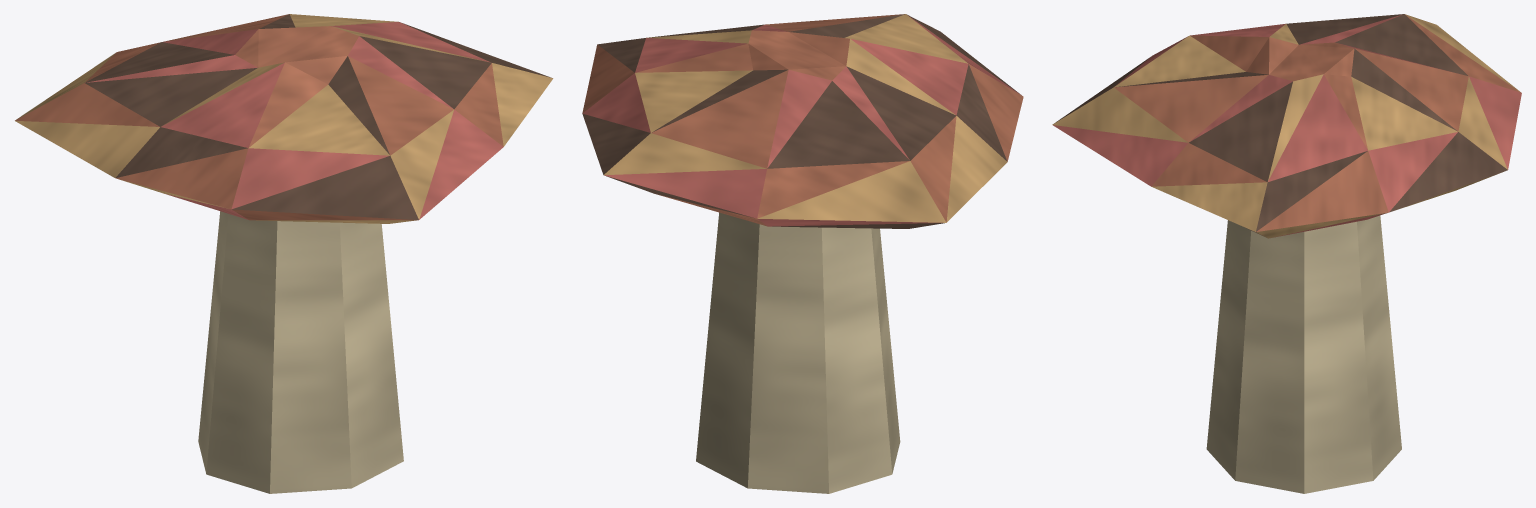
The model's file is mushroom_small_set_04.fbx.
3 views of the same model, side by side, from view 1: azimuth 30°, elevation 25°; view 2: azimuth 150°, elevation 25°; view 3: azimuth 270°, elevation 25° (orthographic). The views are drawn at different scales.
Parts seen in each view (by area): view 1: mushroom_small_set_04; view 2: mushroom_small_set_04; view 3: mushroom_small_set_04.
Part boxes in pixels (x1,y1,x2,y2): mushroom_small_set_04: (15, 14, 553, 493); mushroom_small_set_04: (582, 14, 1023, 493); mushroom_small_set_04: (1052, 14, 1521, 493).
Bounding box in the file's own units: 24.29 × 21.4 × 23.
1 material, 1 textured.
